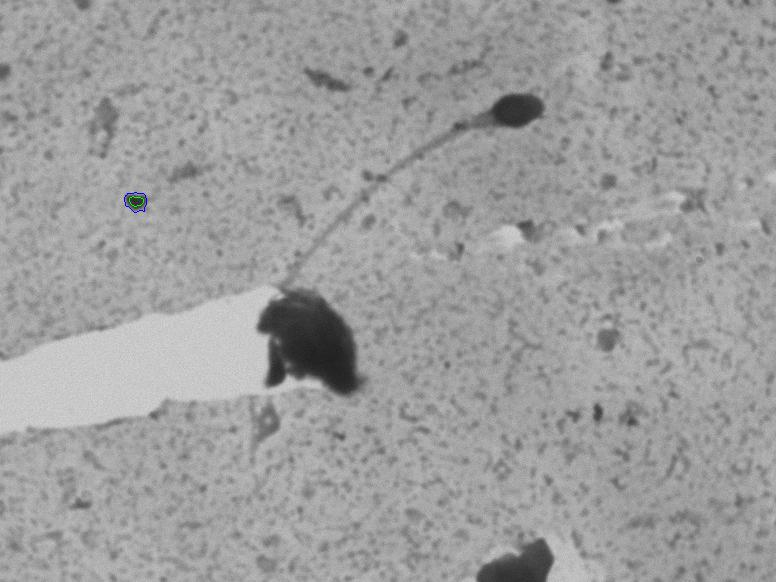Abnormal: (277, 80, 567, 306)
